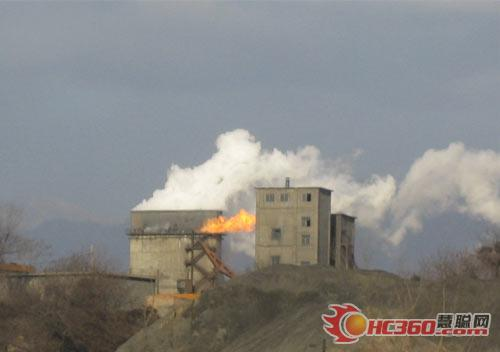dust: (117, 128, 267, 218)
